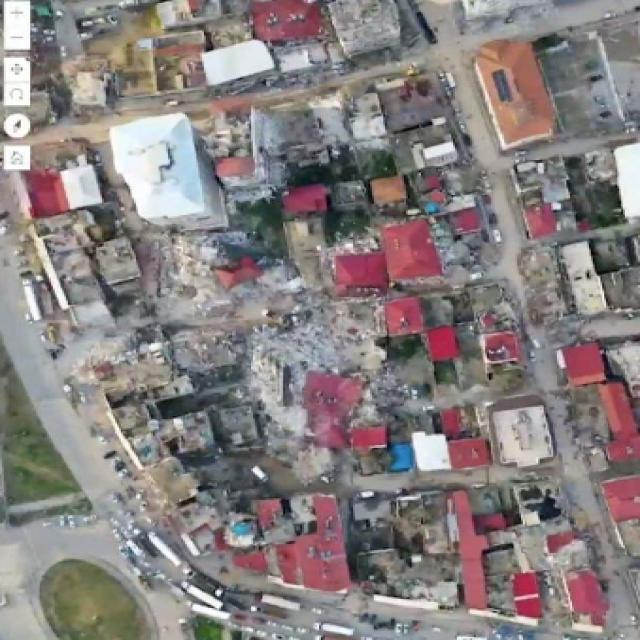Rubble: (256, 320, 356, 450), (150, 228, 284, 302)
